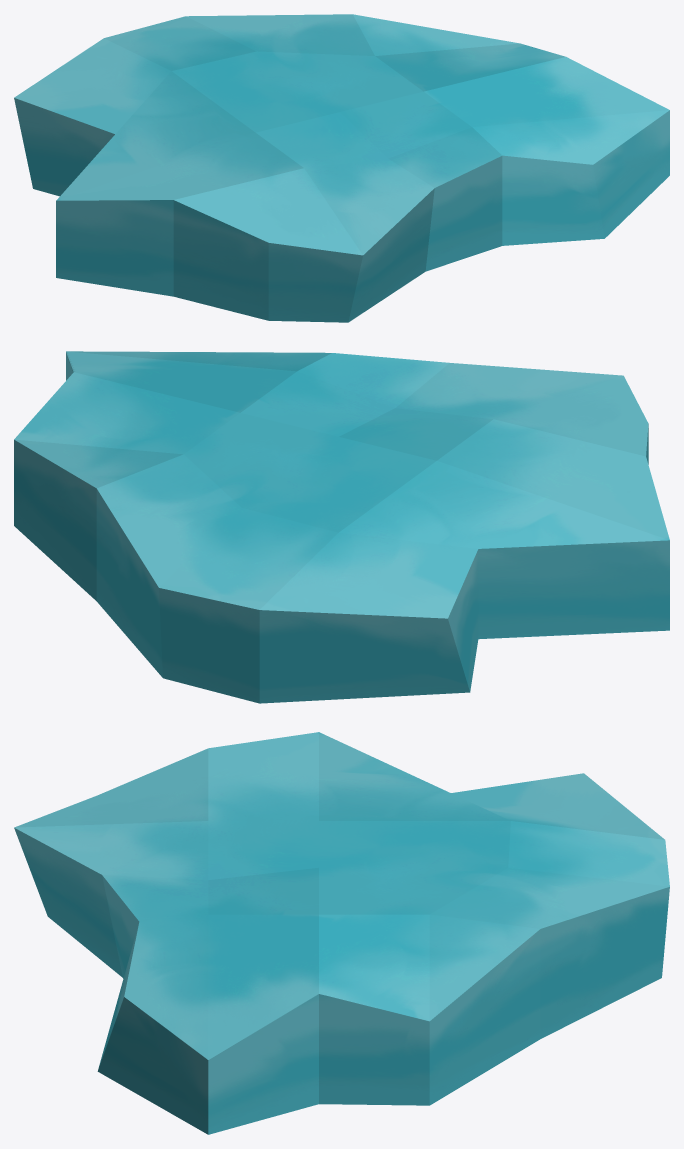
Rendered from floe.obj.
3 renders of one model, top to bottom at view 1: azimuth 30°, elevation 25°; view 2: azimuth 150°, elevation 25°; view 3: azimuth 270°, elevation 25°, orthographic. The views are drawn at different scales.
Parts seen in each view (by area): view 1: Cube; view 2: Cube; view 3: Cube.
Part boxes in pixels (<box>): Cube: <box>14,14,669,322</box>; Cube: <box>14,351,669,703</box>; Cube: <box>14,732,669,1134</box>.
Bounding box in the file's own units: 3.36 × 0.5496 × 2.96.
Materials: 1 (1 with a texture image).
